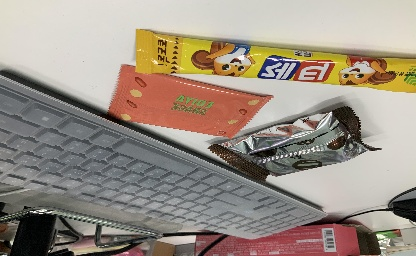jt: (130, 25, 414, 95)
mon: (206, 103, 384, 186)
pota: (101, 64, 275, 141)
